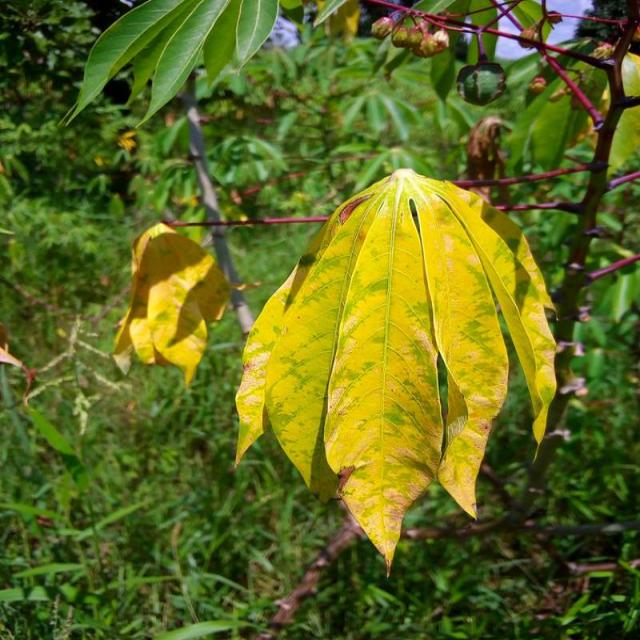cassava leaf: (234, 165, 558, 576), (112, 220, 231, 387)
